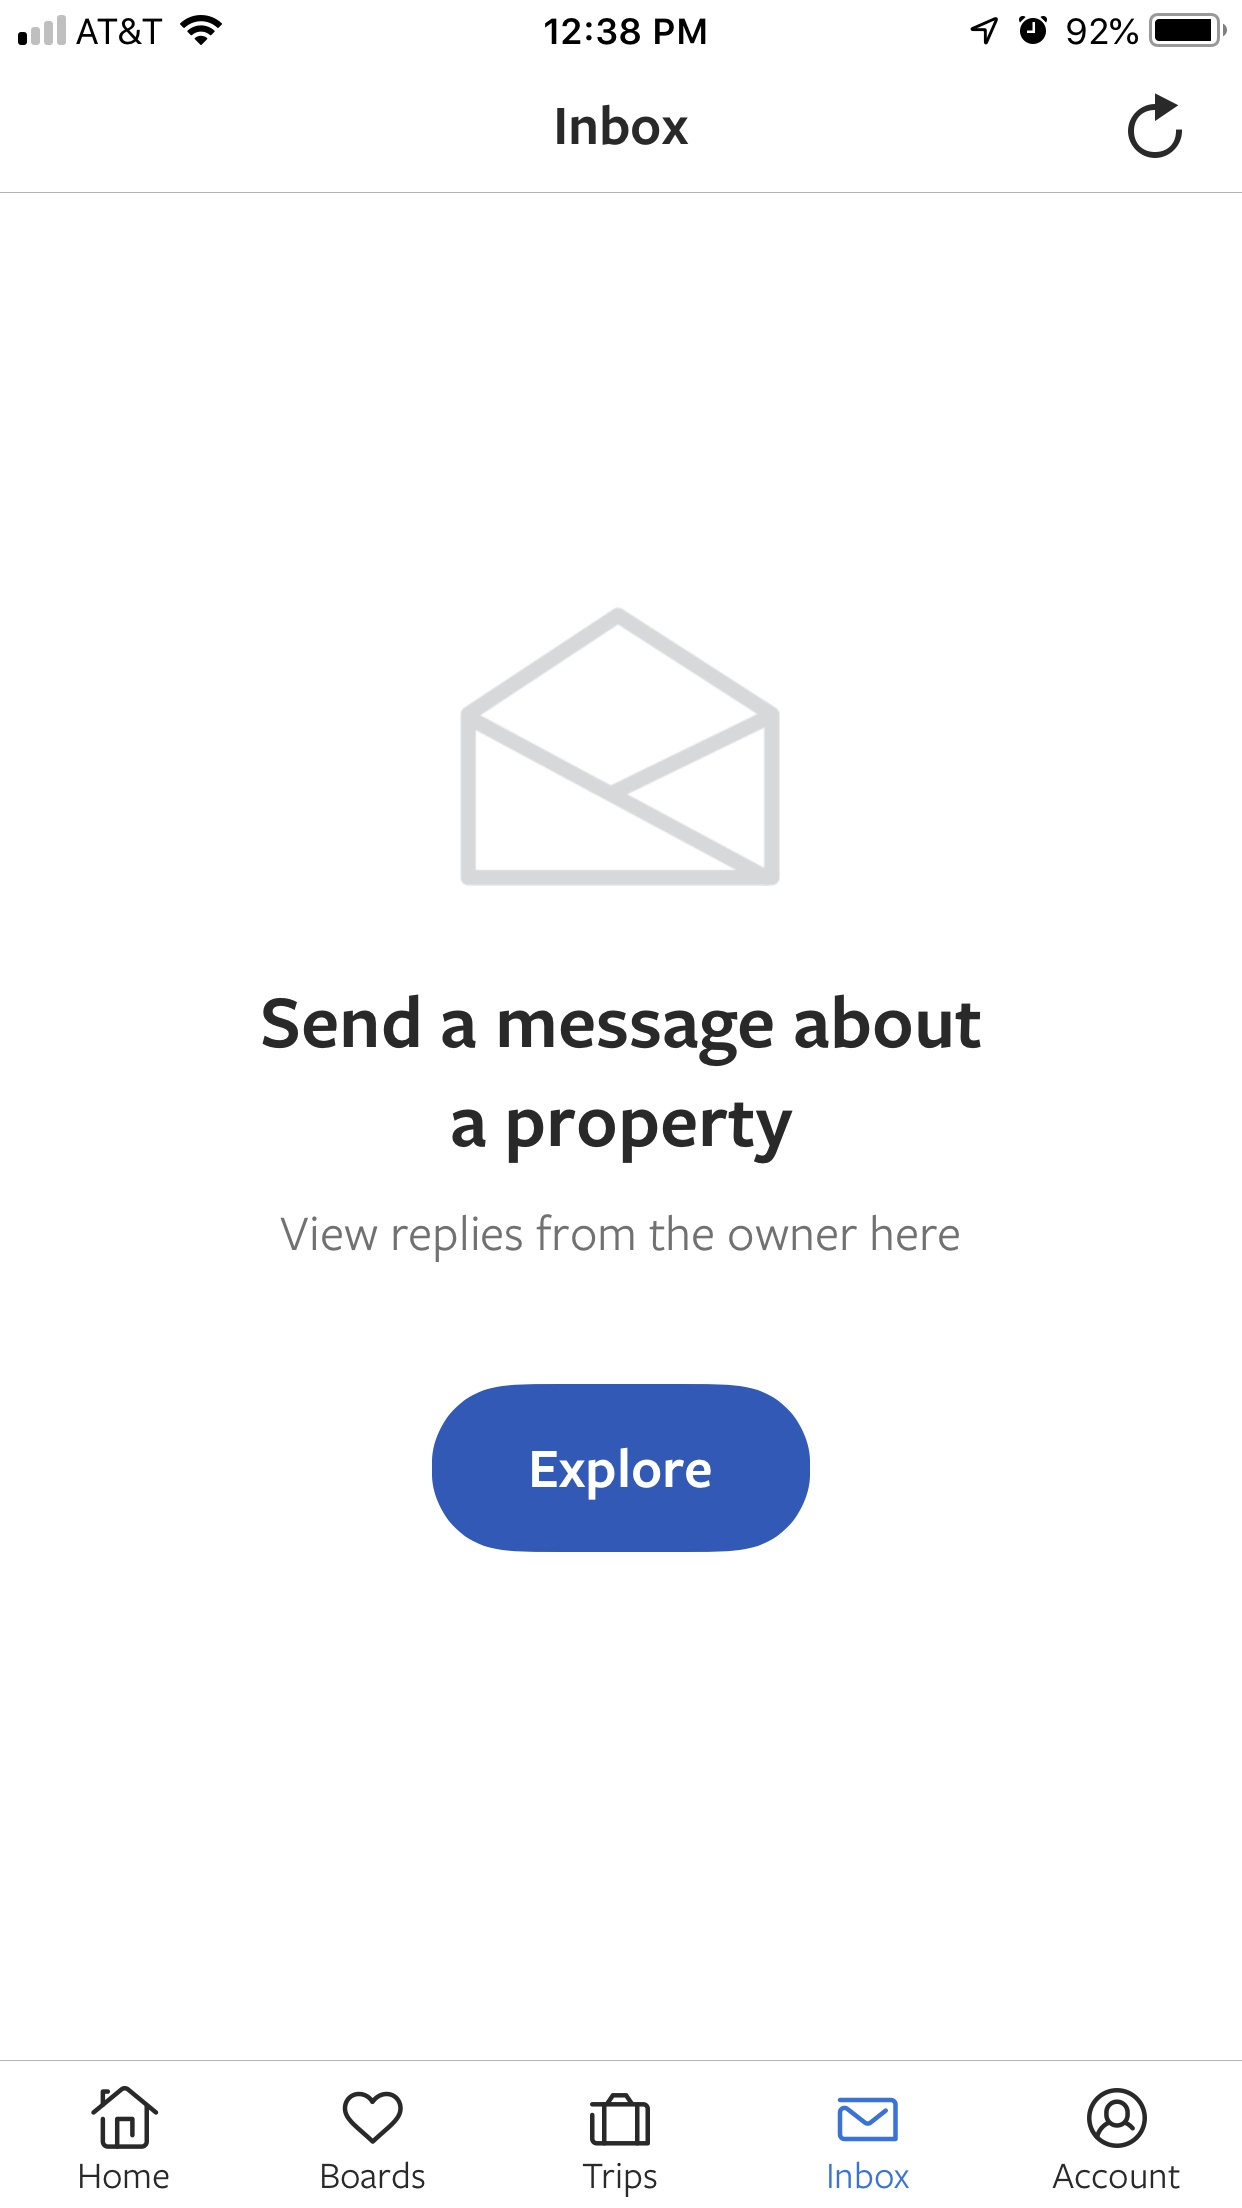Icon: (93, 2085, 161, 2150), (1086, 2087, 1148, 2149), (1128, 93, 1183, 161), (343, 2090, 405, 2144), (590, 2093, 651, 2147), (839, 2096, 899, 2141)
Image: (459, 607, 781, 889)
Text: (262, 993, 983, 1165), (281, 1213, 960, 1263), (557, 105, 688, 146), (1052, 2163, 1181, 2190), (321, 2159, 426, 2188), (582, 2163, 658, 2197), (828, 2159, 910, 2188), (80, 2163, 170, 2188)
TextButton: (432, 1383, 811, 1553)
UpperTaskBar: (2, 2, 1242, 49)
